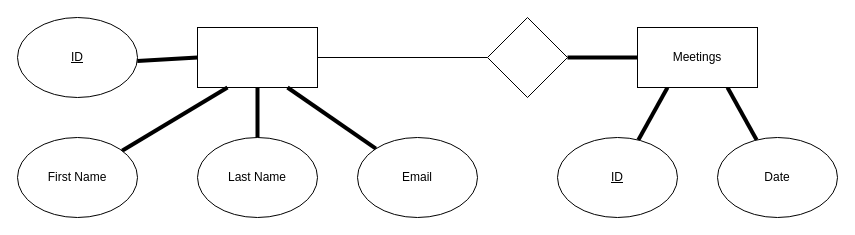
Some shapes in this 855 by 235 pixel diagram are drawn without their labels. The centre of each missing label's shape, as x and y in pixels:
"Attend" belongs at (527,57).
"Members" belongs at (257,57).
